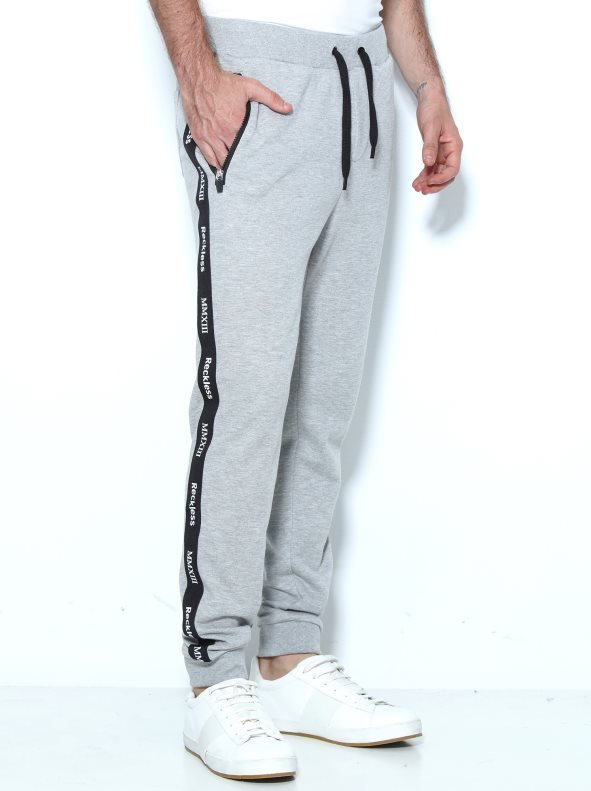feet: (157, 611, 430, 791)
